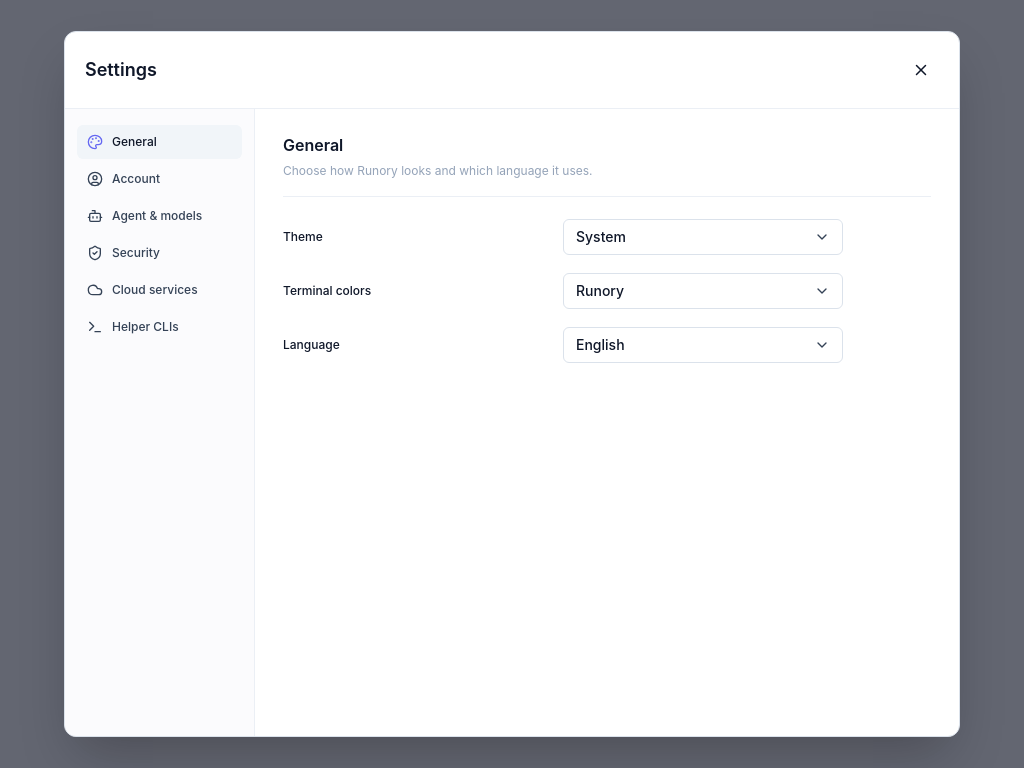
Test case: settings controls (en-US) › keeps account management separate from cloud workspace settings
Expected: the button "Account" is shown, [77,162,242,196]
Expected: the button "Cloud services" is shown, [77,273,242,307]
Click the button "Helper CLIs".
click(160, 327)  # box [77,310,242,344]
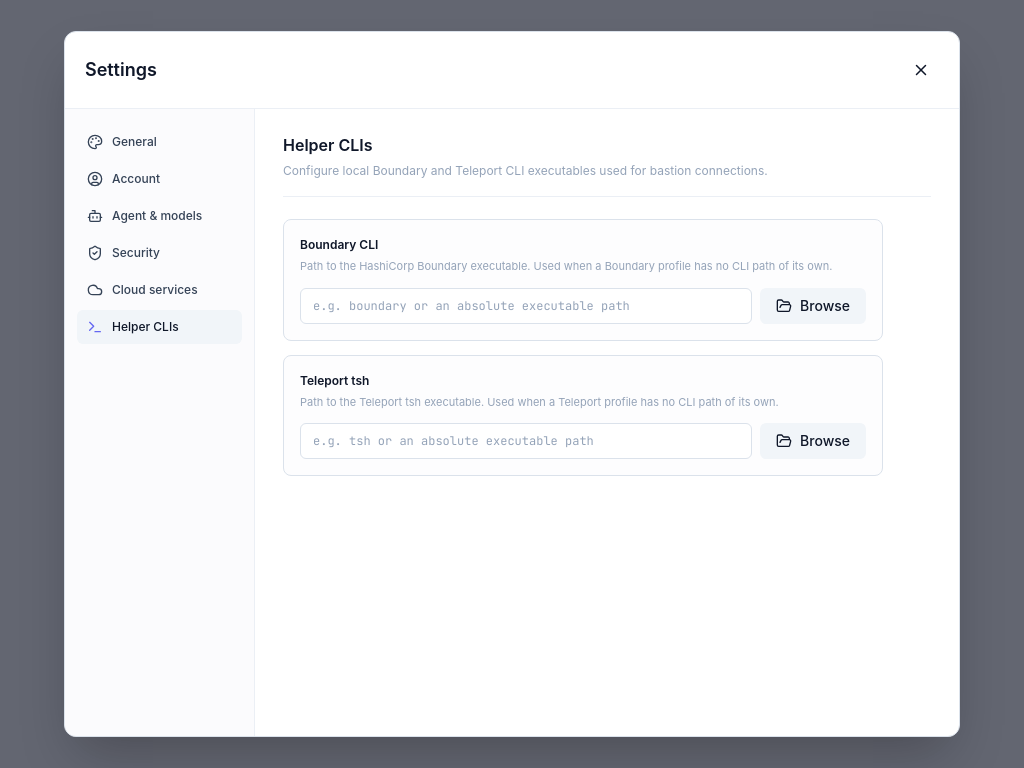
Expected: the heading "Helper CLIs" is shown, [283,135,372,155]
Expected: the text "Browse" is shown, [800,296,850,316]
Click the button "Account".
click(160, 179)  # box [77,162,242,196]
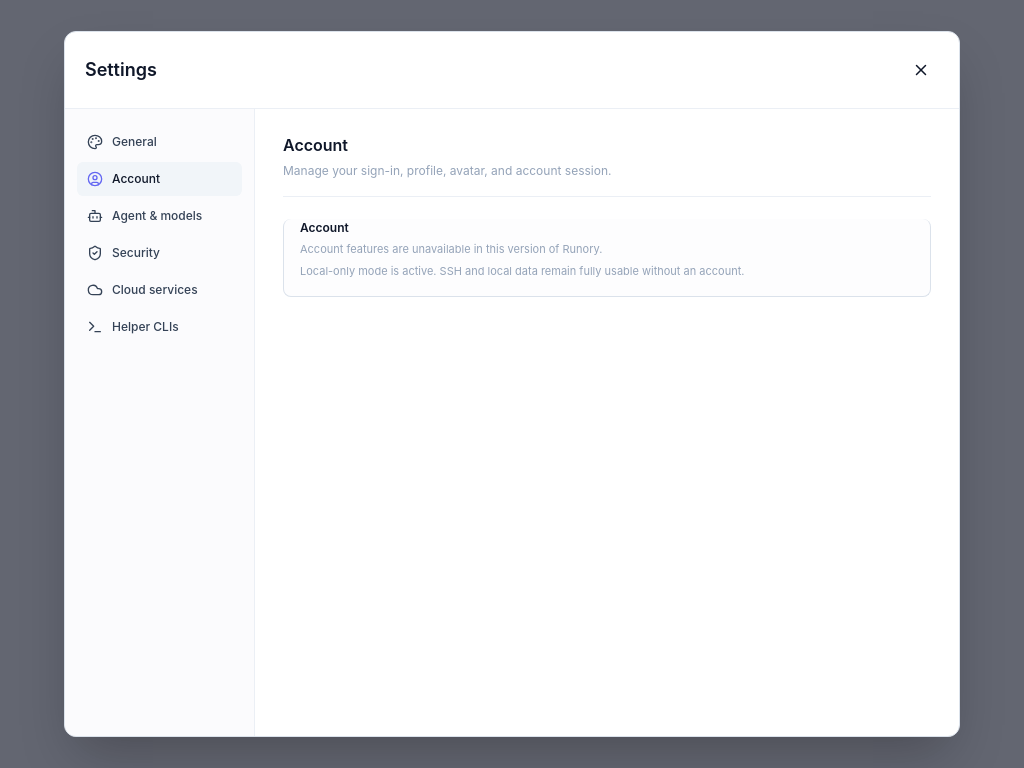
Expected: the 1st heading "Account" is shown, [283,135,348,155]
Expected: the text "Account features are unavailable in this version of Runory." is shown, [300,242,602,256]
